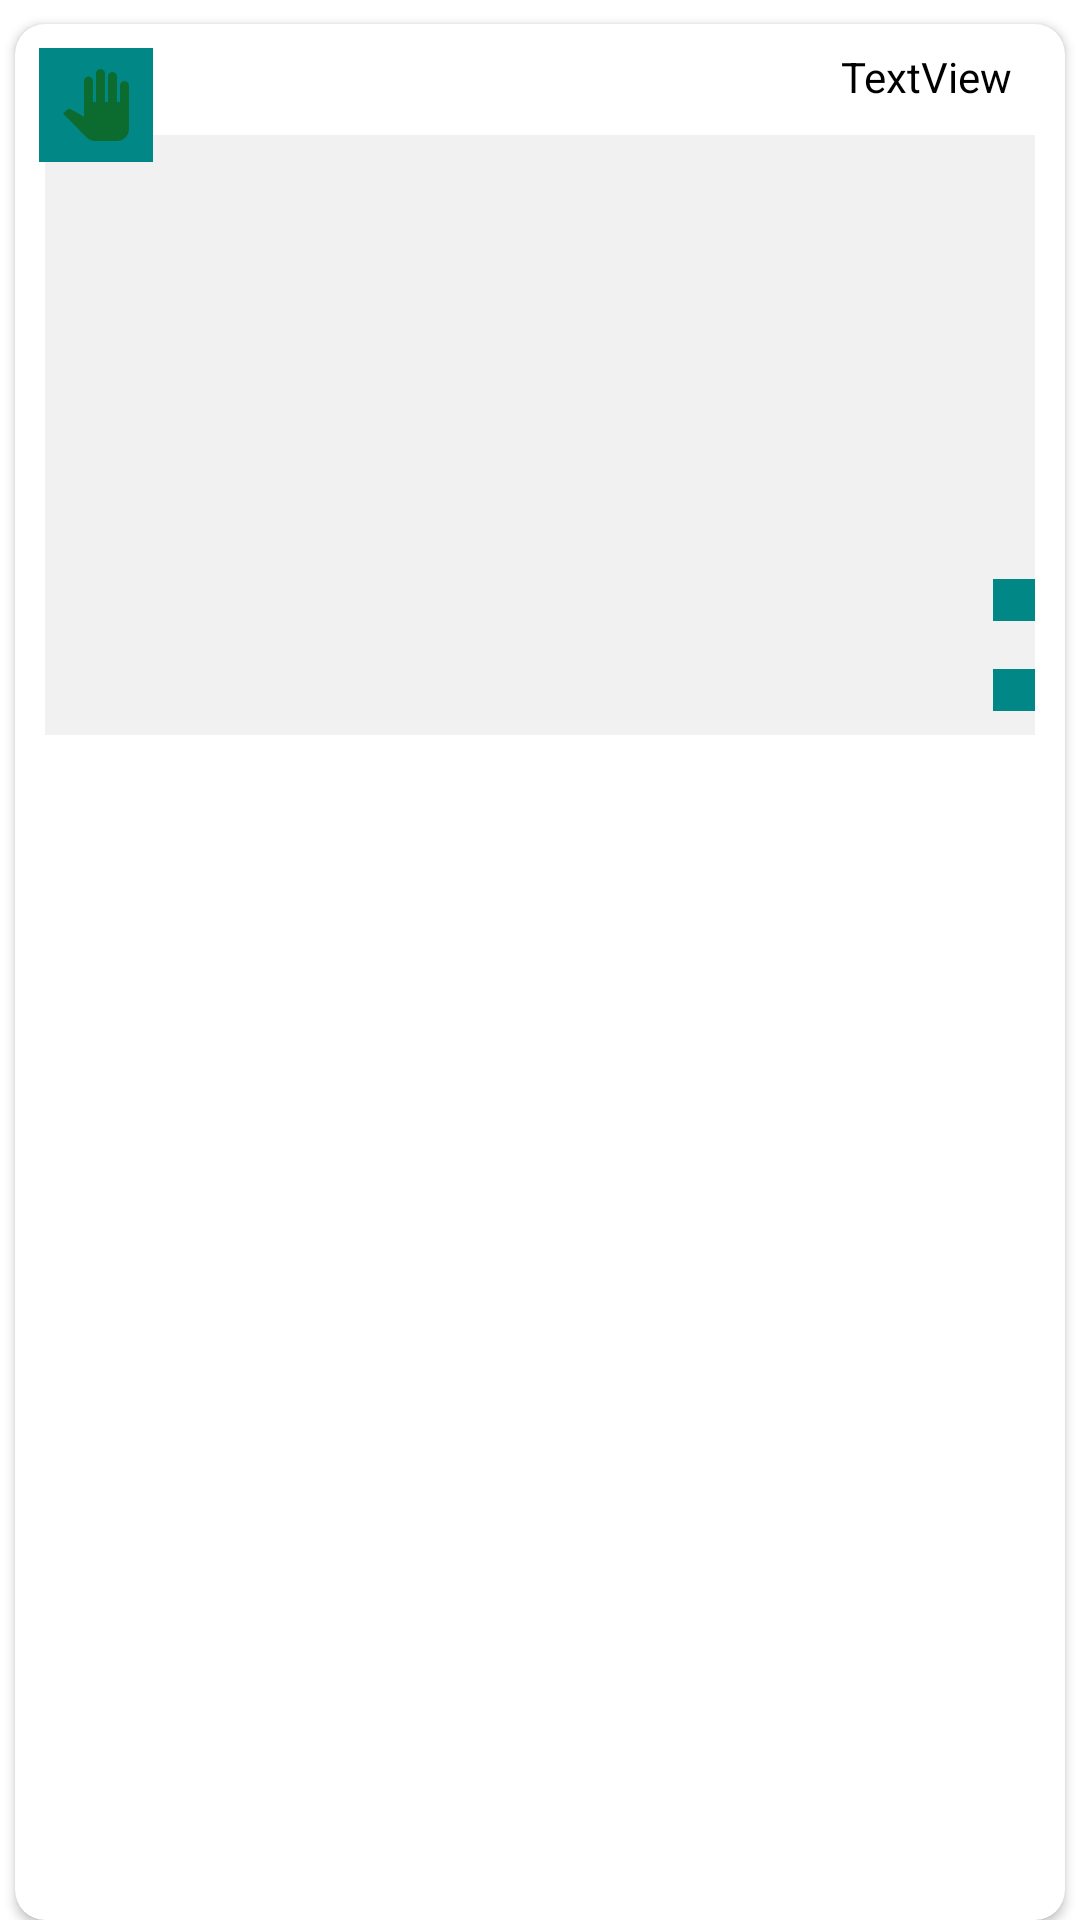

Where icons sit on this 1080*1920 app screen, as (x1, y1, x2, y2):
drag: (39, 48, 153, 162)
